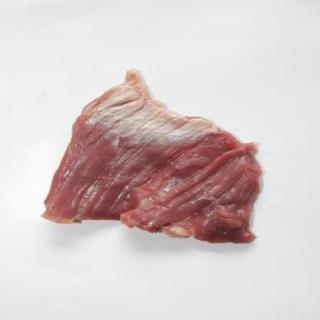Daging Sapi: (41, 70, 266, 247)
